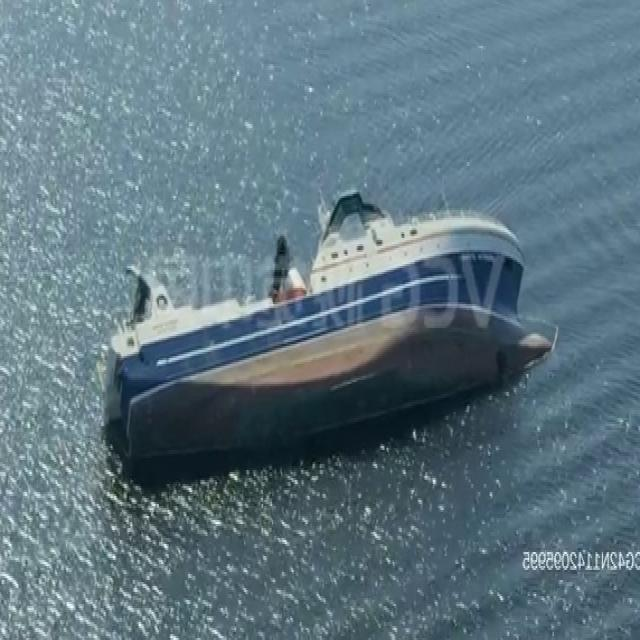passenger ship: (103, 186, 566, 459)
